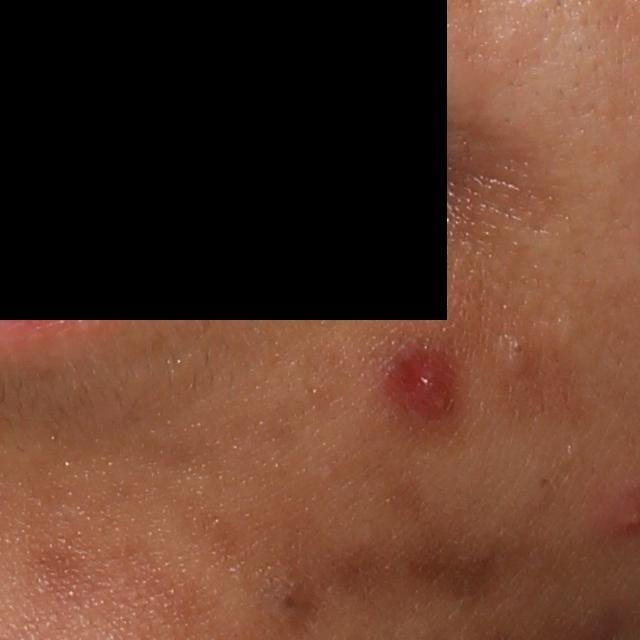papule: (395, 347, 462, 421)
